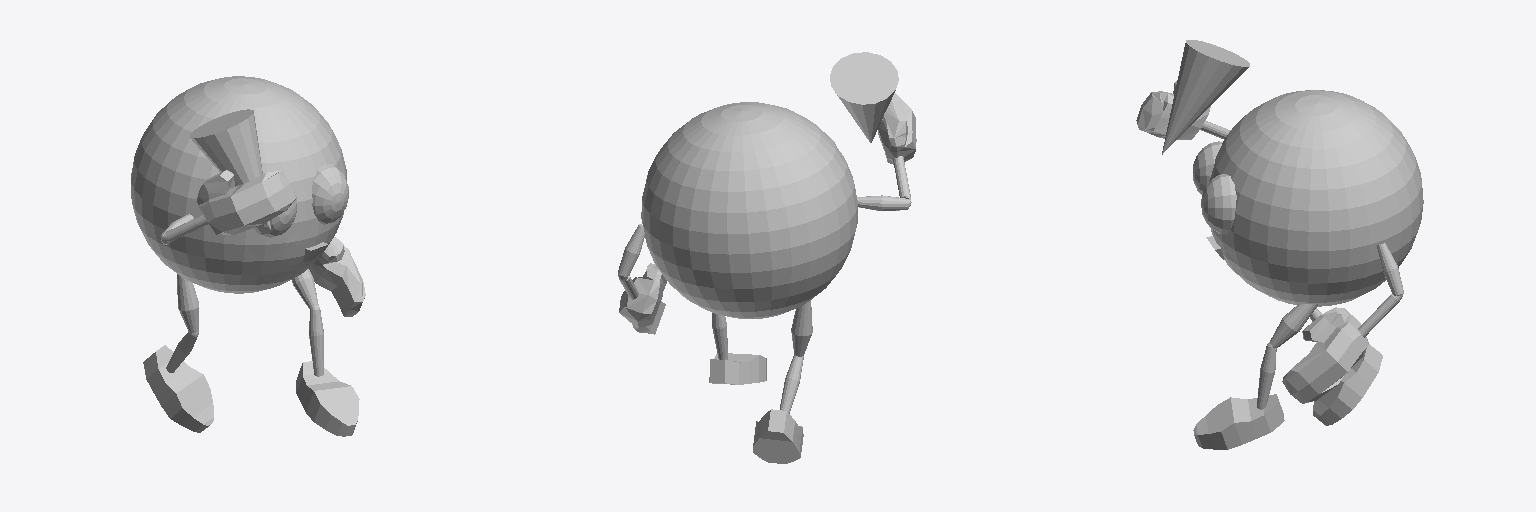
File: runToStand_000033.obj
3 views of the same model, side by side, from view 1: azimuth 30°, elevation 25°; view 2: azimuth 150°, elevation 25°; view 3: azimuth 270°, elevation 25° (orthographic).
Visible parts, largest first — view 1: Rusko_Sphere; view 2: Rusko_Sphere; view 3: Rusko_Sphere.
Boxes of the visible parts, x1=… form: Rusko_Sphere: x1=131, y1=76, x2=365, y2=436; Rusko_Sphere: x1=618, y1=52, x2=916, y2=463; Rusko_Sphere: x1=1136, y1=40, x2=1423, y2=449.
Bounding box in the file's own units: 5.06 × 7.46 × 5.29.